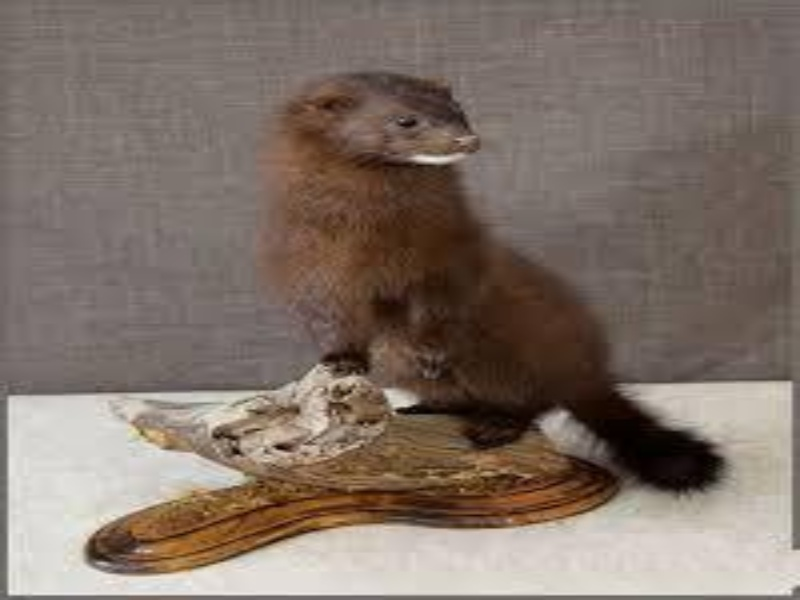minkish: (256, 72, 728, 494)
